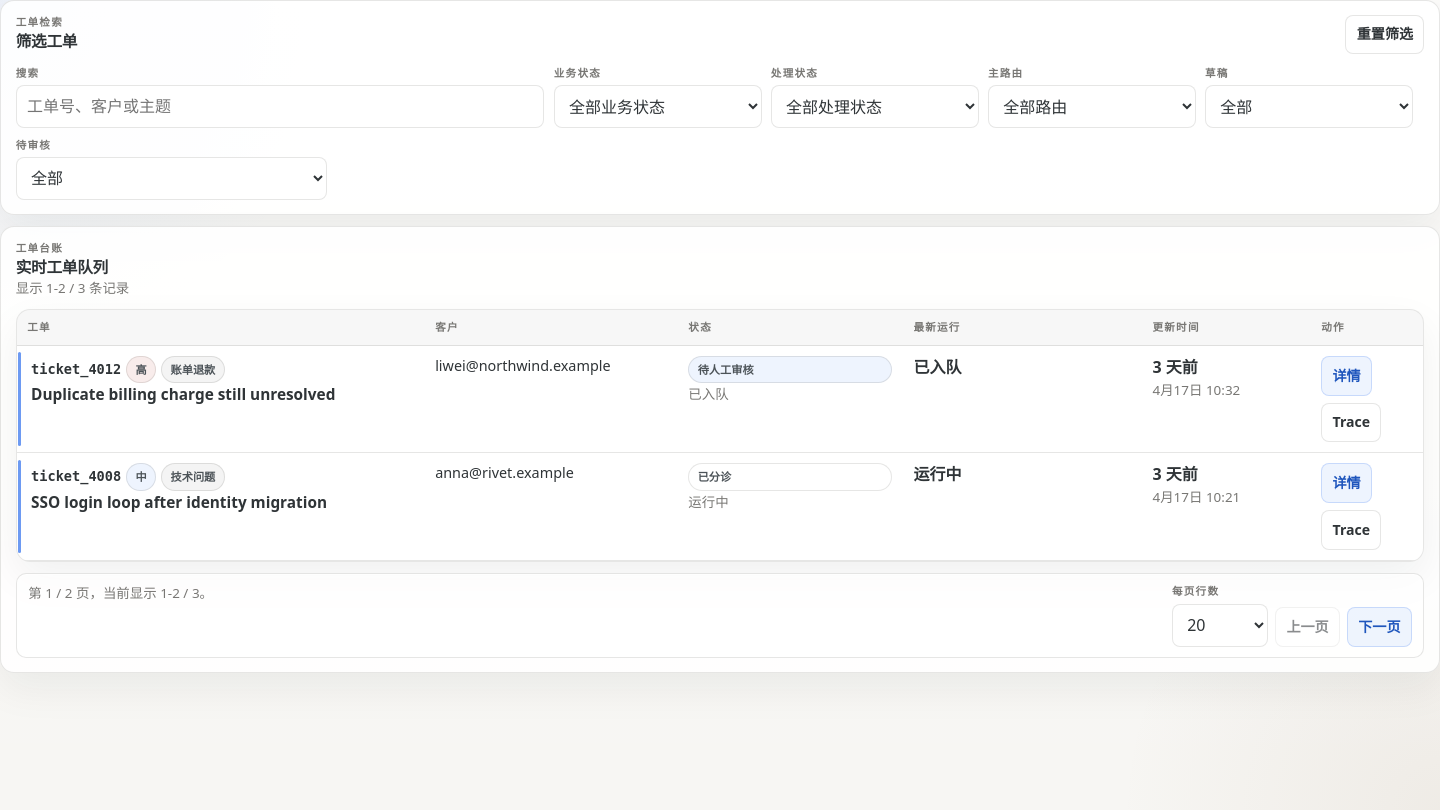
Test: TicketsPageV2 › uses server pagination responses to advance the ledger
Expected: the button "Duplicate billing charge still unresolved" is shown, top-left (31, 385), bottom-right (414, 406)
Expected: the text "第 1 / 2 页，当前显示 1-2 / 3。" is shown once, top-left (28, 584), bottom-right (213, 602)
Select "2" in the dropdown labelled "每页行数" at [1220, 625], box top-left (1172, 604), bottom-right (1268, 647)
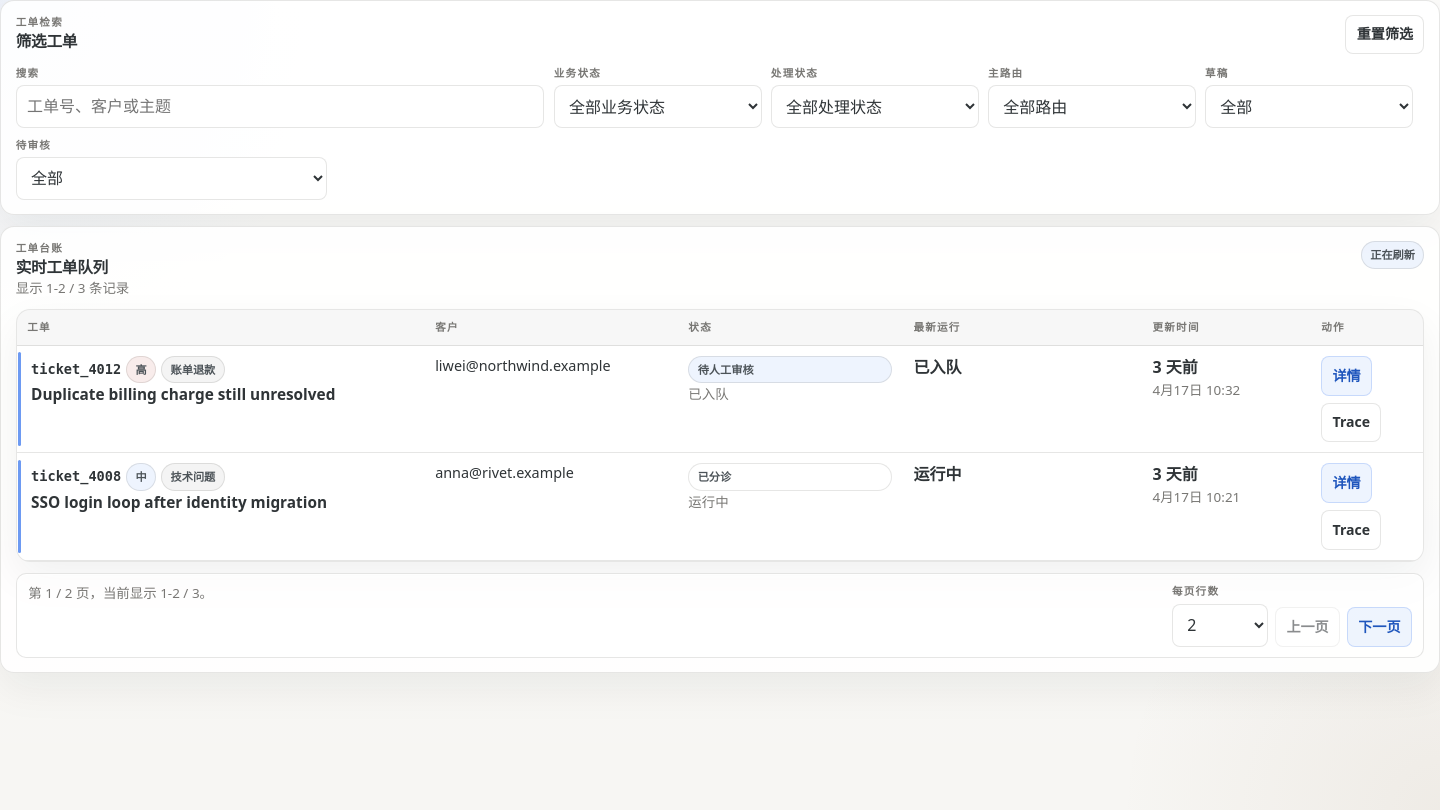
Click the button "下一页" at [1379, 627], box top-left (1347, 607), bottom-right (1412, 647)
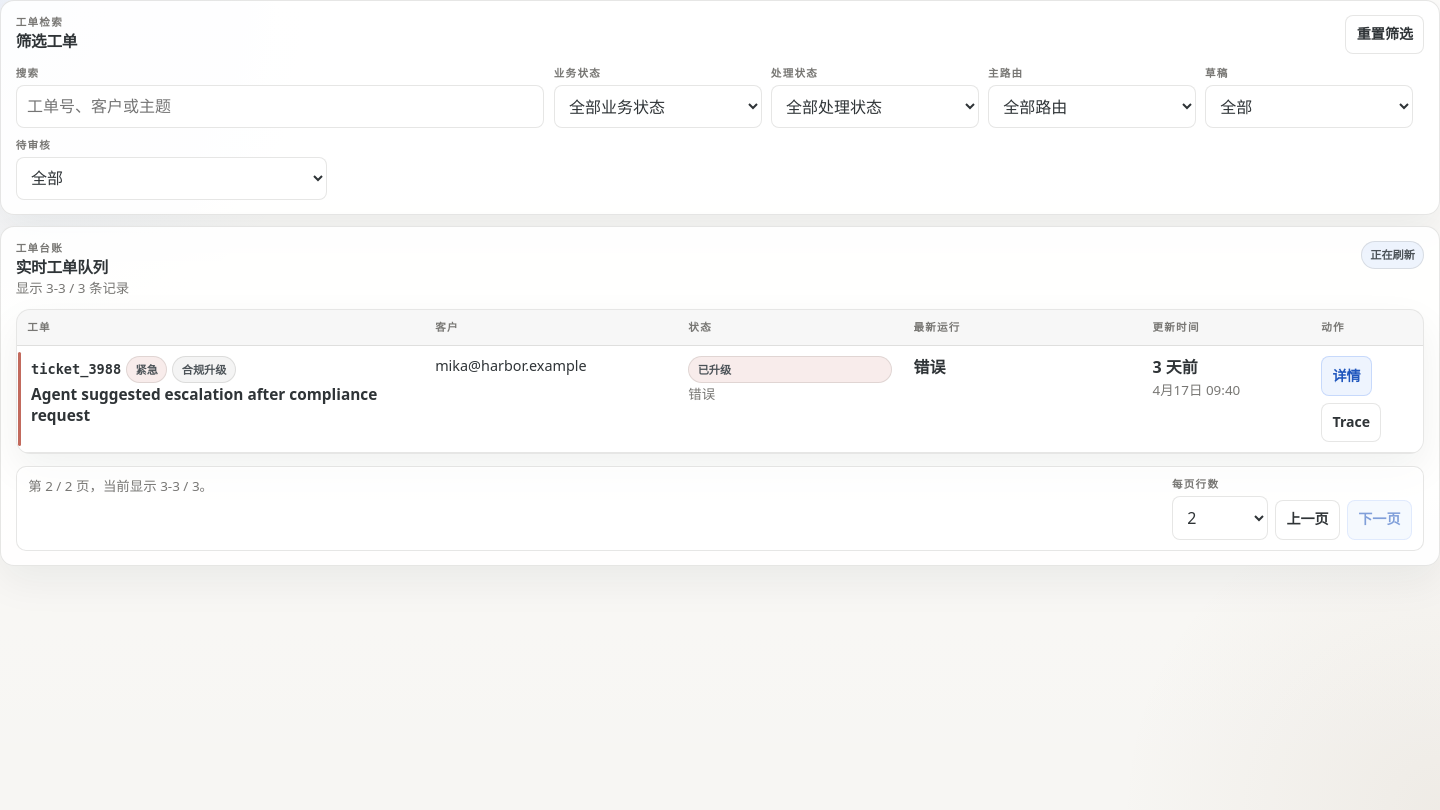
Expected: the text "第 2 / 2 页，当前显示 3-3 / 3。" is shown once, top-left (28, 477), bottom-right (213, 495)
Now the button "Agent suggested escalation after compliance request" is shown, box top-left (31, 385), bottom-right (414, 426)
